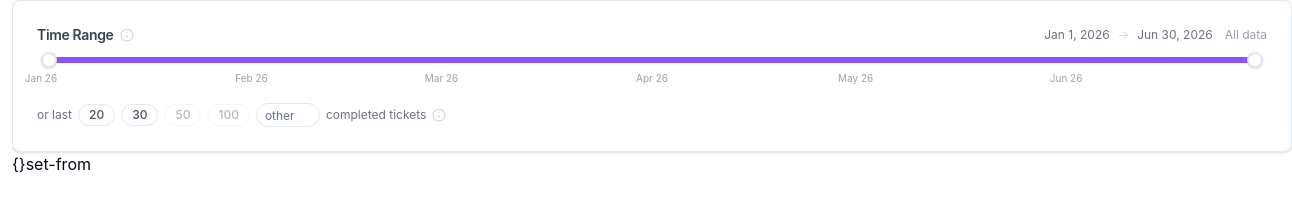
DateRangeSlider — last N tickets › accepts a custom number and warns when there are fewer tickets
The width and height of the screenshot is (1292, 214).
Type "75" into the number field named "Custom number of tickets" at coordinates (288, 115), box [256,103,320,127]
Then press Enter
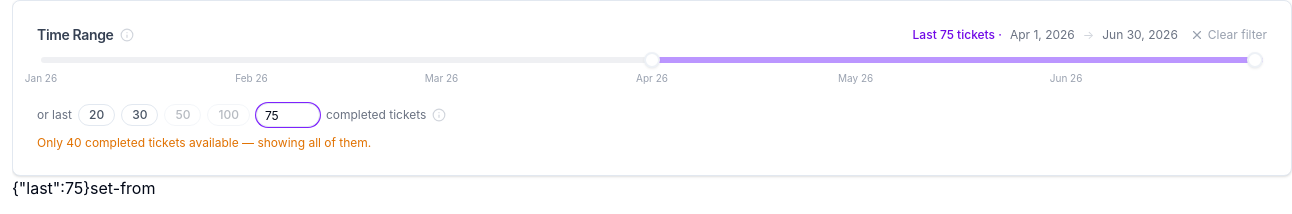
Now the text "Only 40 completed tickets available — showing all of them." is shown, box [37,135,371,150]
